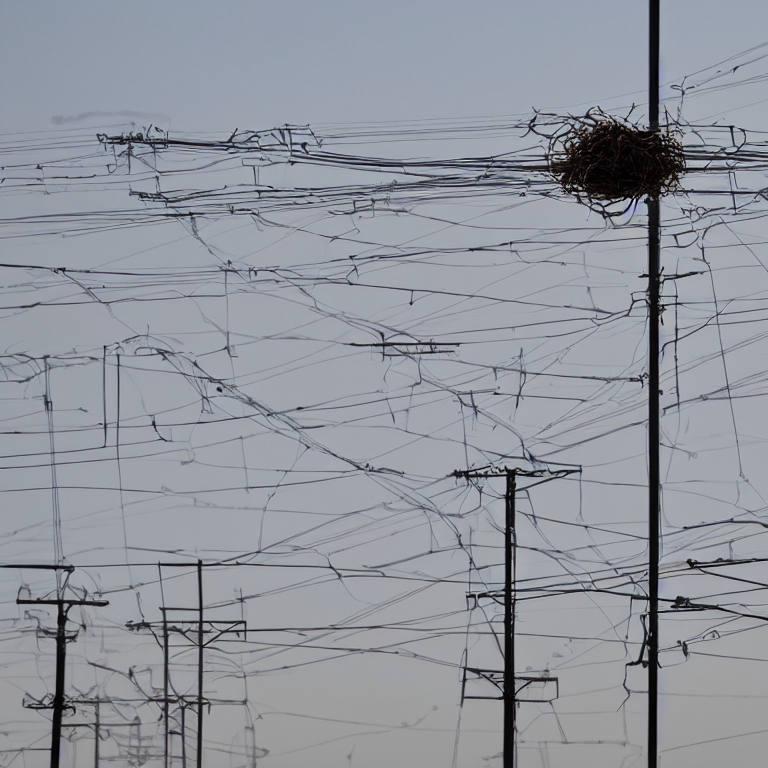nest: (556, 117, 686, 199)
